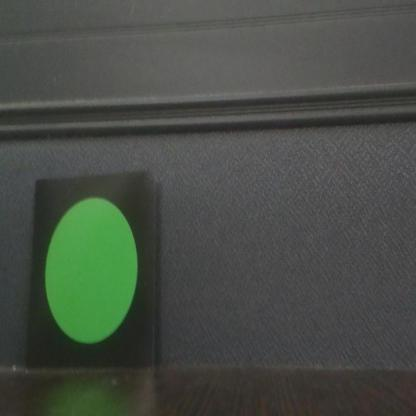go: (35, 181, 154, 371)
